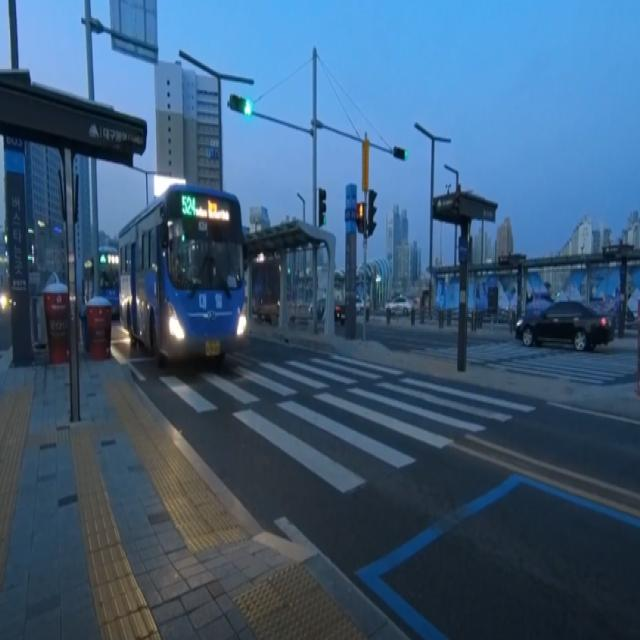bus-number: (182, 194, 196, 216)
